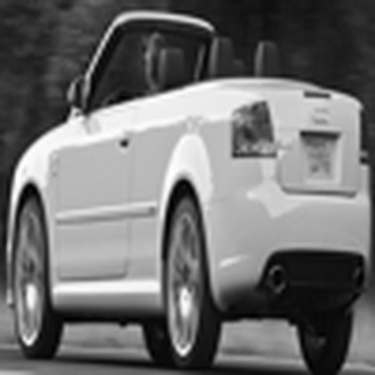car: (9, 14, 360, 357)
